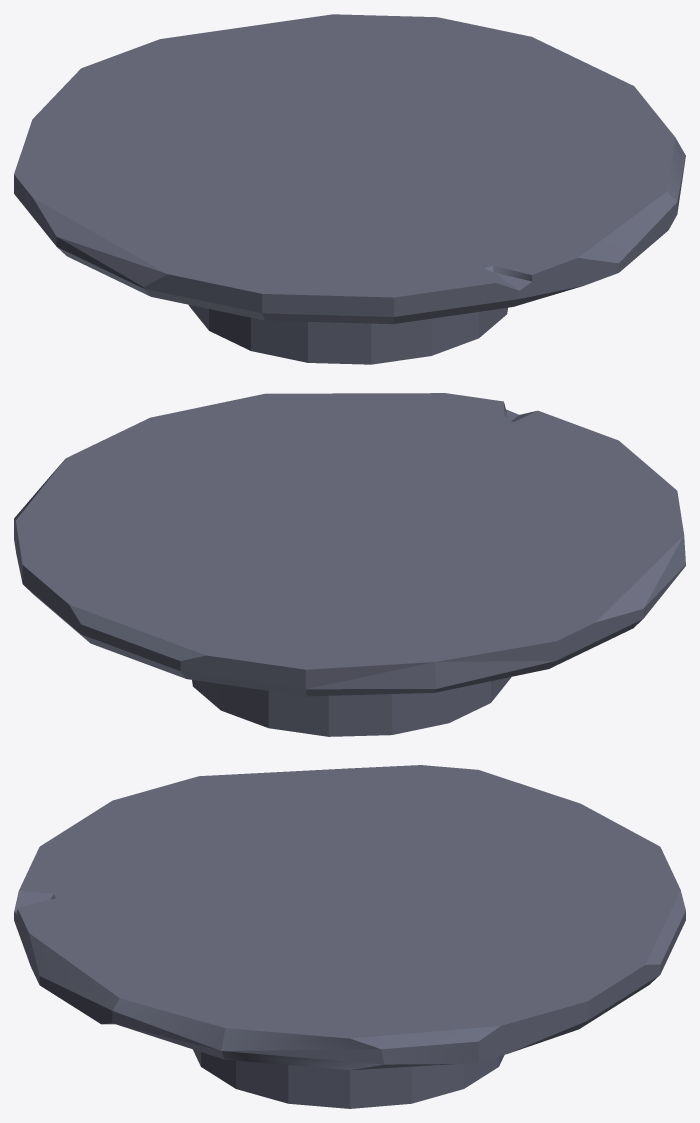
File: Stone_Table_Round.fbx
3 renders of one model, top to bottom at view 1: azimuth 30°, elevation 25°; view 2: azimuth 150°, elevation 25°; view 3: azimuth 270°, elevation 25°, orthographic.
Visible parts, largest first — view 1: 1-Table_Round; view 2: 1-Table_Round; view 3: 1-Table_Round.
Boxes of the visible parts, left/top/right/bottom form: 1-Table_Round: left=14, top=14, right=685, bottom=364; 1-Table_Round: left=14, top=393, right=685, bottom=736; 1-Table_Round: left=14, top=765, right=685, bottom=1108.
Bounding box in the file's own units: 2.42 × 2.44 × 0.56.
